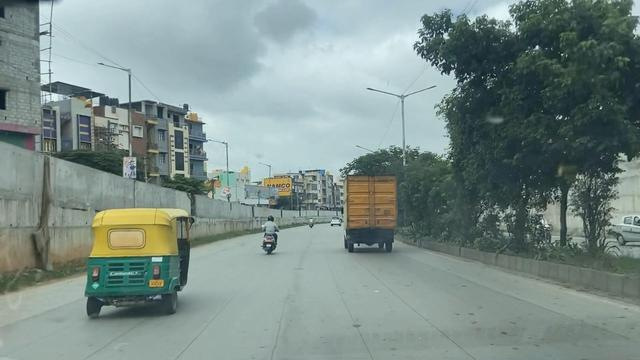HMV: (335, 163, 406, 267)
